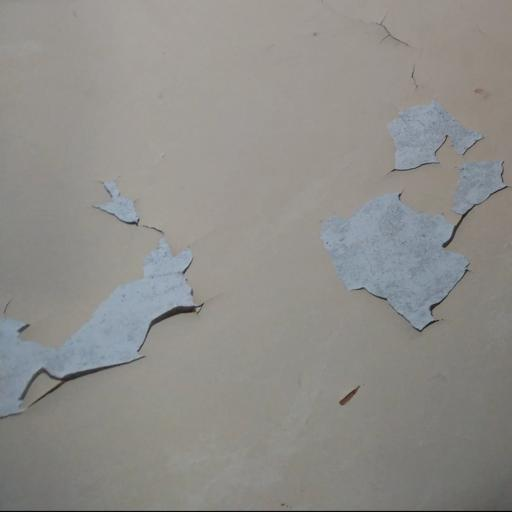peeling: (0, 149, 222, 427), (306, 98, 512, 337), (359, 13, 435, 103)
